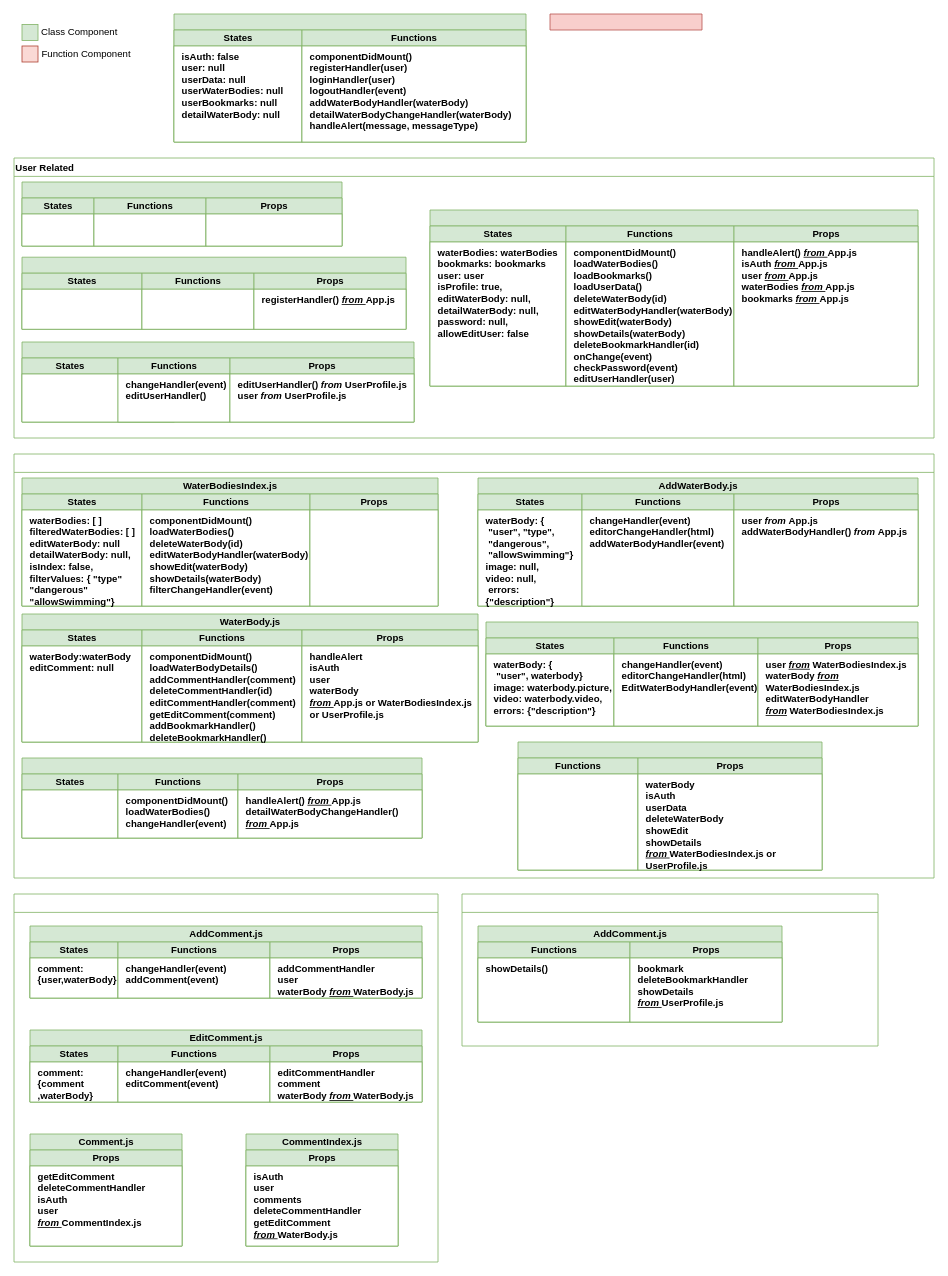
The diagram is 948 pixels wide and 1276 high, and some of its shapes have lost their labels. Here are the shapes that lost their labels. From the top down, the box of each, then its label:
(549, 13, 702, 30): Home.js
(173, 13, 526, 142): App.js
(21, 213, 94, 246): userInfo: {}
(93, 213, 206, 246): changeHandler(event) loginHandler()
(21, 181, 342, 246): Login.js
(205, 213, 342, 246): loginHandler() from App.js
(21, 288, 142, 329): userInfo:{"userRole"} image: null errors: {}
(141, 288, 254, 329): changeHandler(event) registerHandler()
(21, 256, 406, 329): Register.js
(429, 209, 918, 386): UserProfile.js
(21, 373, 174, 422): userInfo: user image: user.picture errors: {}
(21, 341, 414, 422): UserEdit.js
(309, 509, 438, 606): handleAlert() from App.js isAuth from App.js userData from App.js
(13, 453, 934, 878): Water Body Related
(485, 621, 918, 726): EditWaterBody.js
(21, 789, 118, 838): waterBodies: null, filterResult: null, filterValue: ""
(21, 757, 422, 838): SearchWaterBodies.js
(517, 741, 822, 870): WaterBodyCard.js
(517, 773, 638, 870): showDetails() showEdit() handleDelete()
(461, 893, 878, 1046): Bookmark Related
(13, 893, 438, 1262): Comment Related
